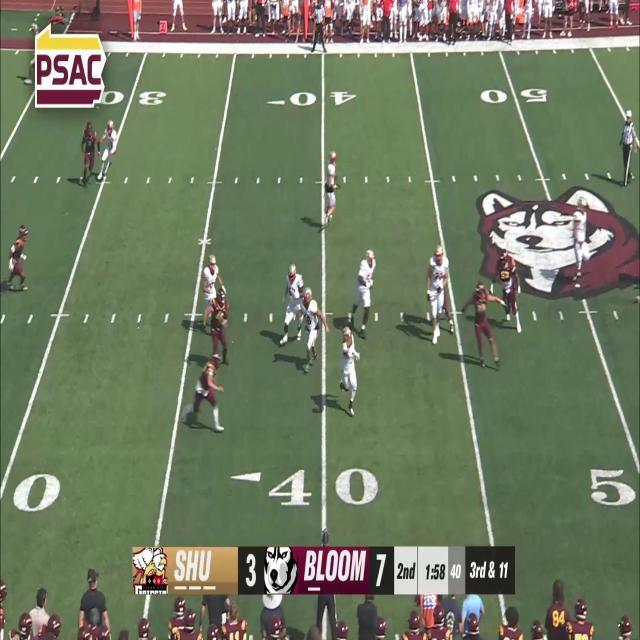football: (345, 336, 353, 348)
